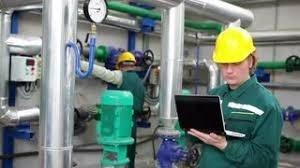helmet: (212, 25, 260, 66), (113, 50, 139, 68)
person with partial safety: (207, 24, 289, 168), (114, 51, 147, 91)
